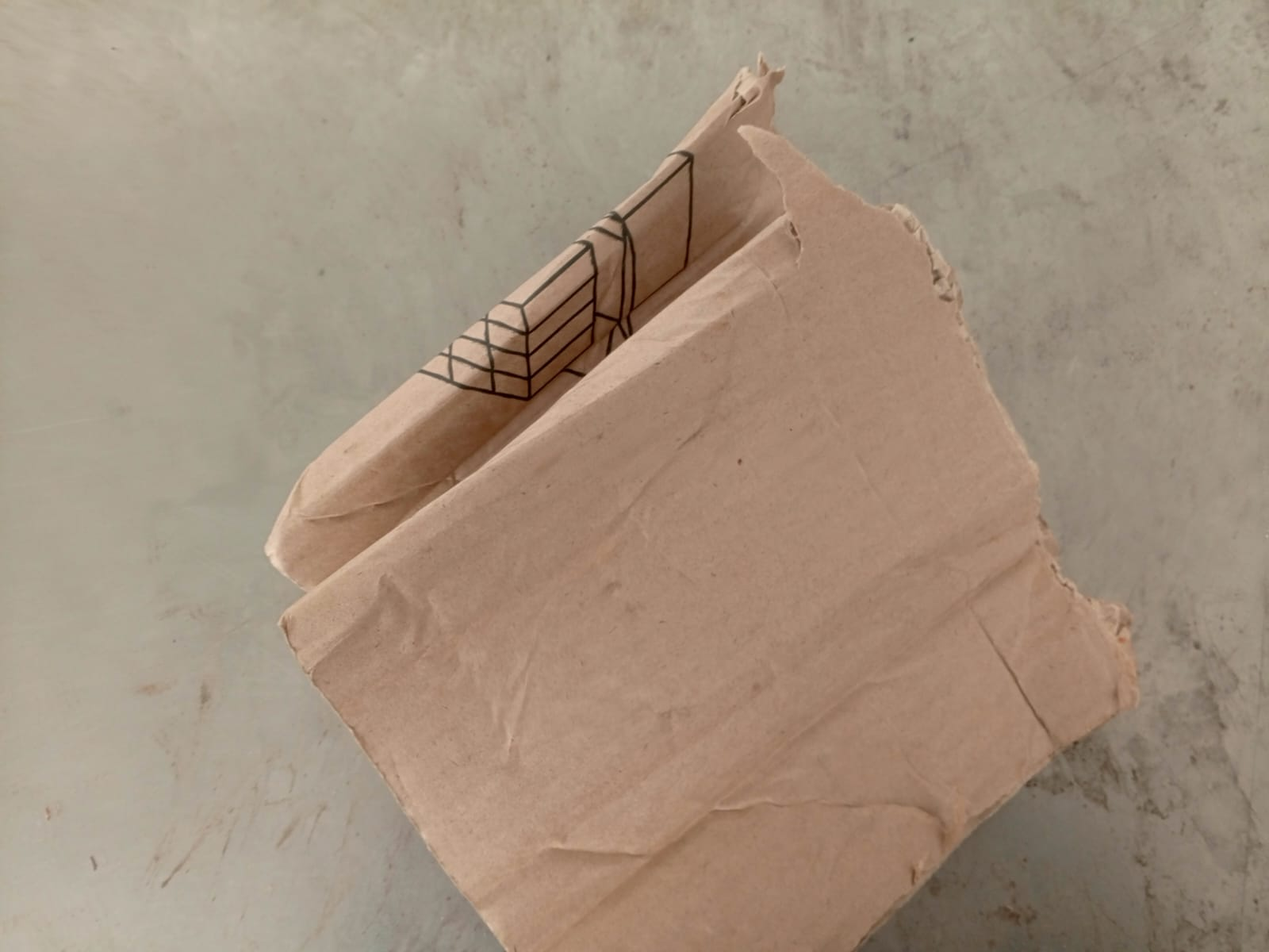Carton: (272, 76, 1132, 952)
